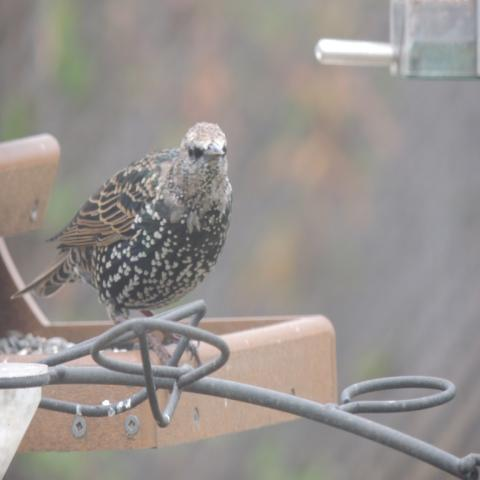bird: (9, 118, 234, 364)
